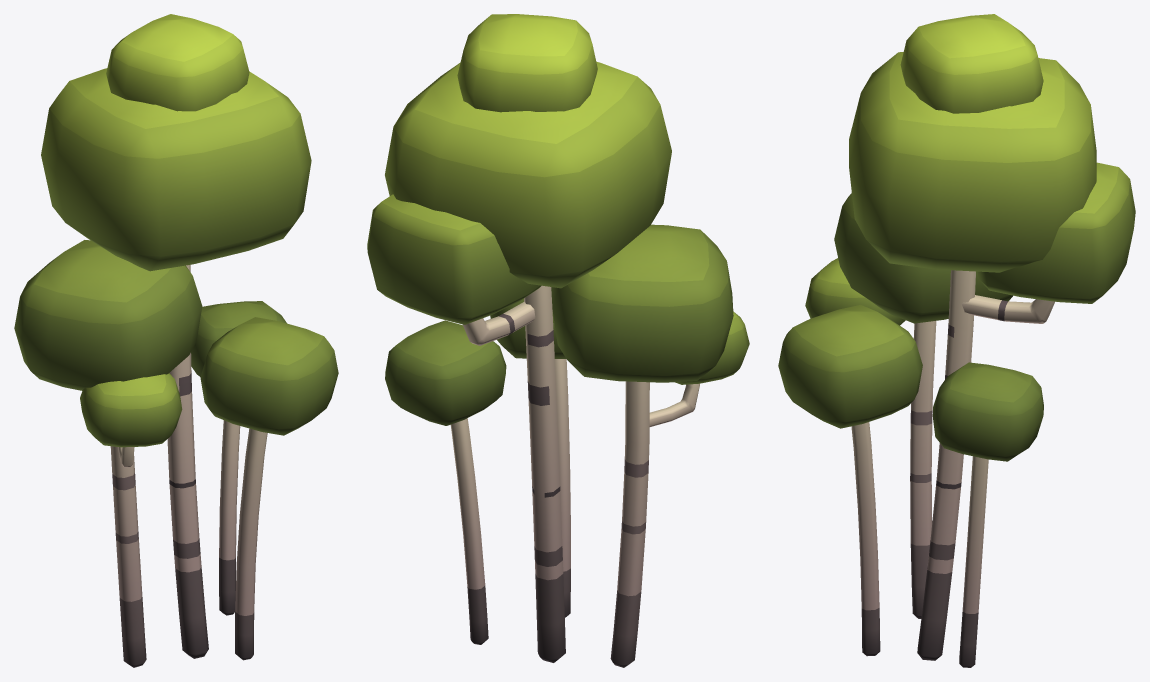
Rendered from birch_tree_col1_07.fbx.
3 views of the same model, side by side, from view 1: azimuth 30°, elevation 25°; view 2: azimuth 150°, elevation 25°; view 3: azimuth 270°, elevation 25° (orthographic). The views are drawn at different scales.
Visible parts, largest first — view 1: birch_tree_col1_07; view 2: birch_tree_col1_07; view 3: birch_tree_col1_07.
Boxes of the visible parts, x1=… form: birch_tree_col1_07: x1=14, y1=14, x2=338, y2=667; birch_tree_col1_07: x1=367, y1=14, x2=749, y2=667; birch_tree_col1_07: x1=778, y1=14, x2=1135, y2=667.
Size of the model in its own units: 332 by 677 by 347.
1 material, 1 textured.
